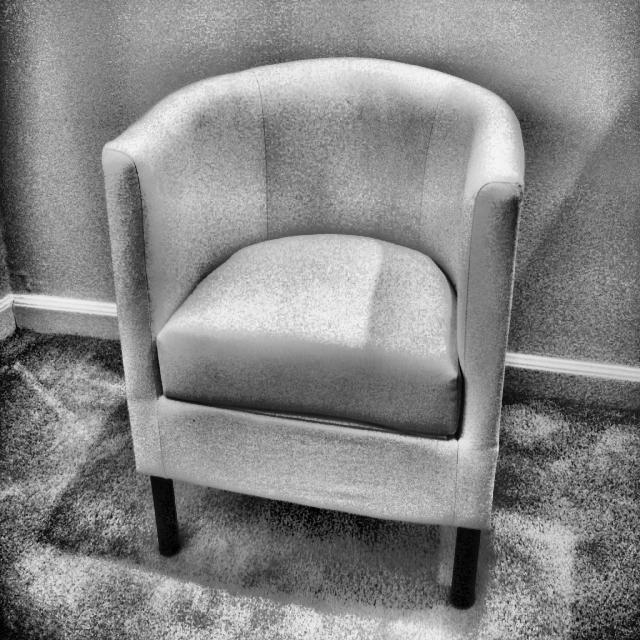chair: (103, 57, 527, 603)
